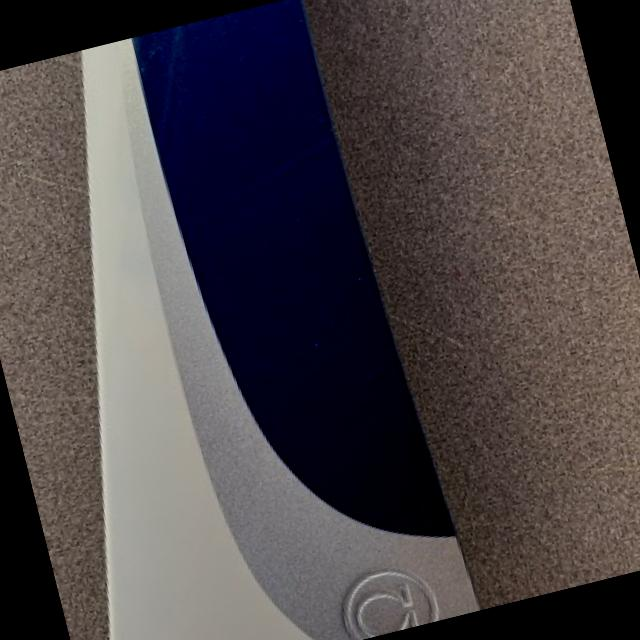healthy: (83, 37, 478, 640), (306, 0, 640, 607), (0, 50, 108, 640)
